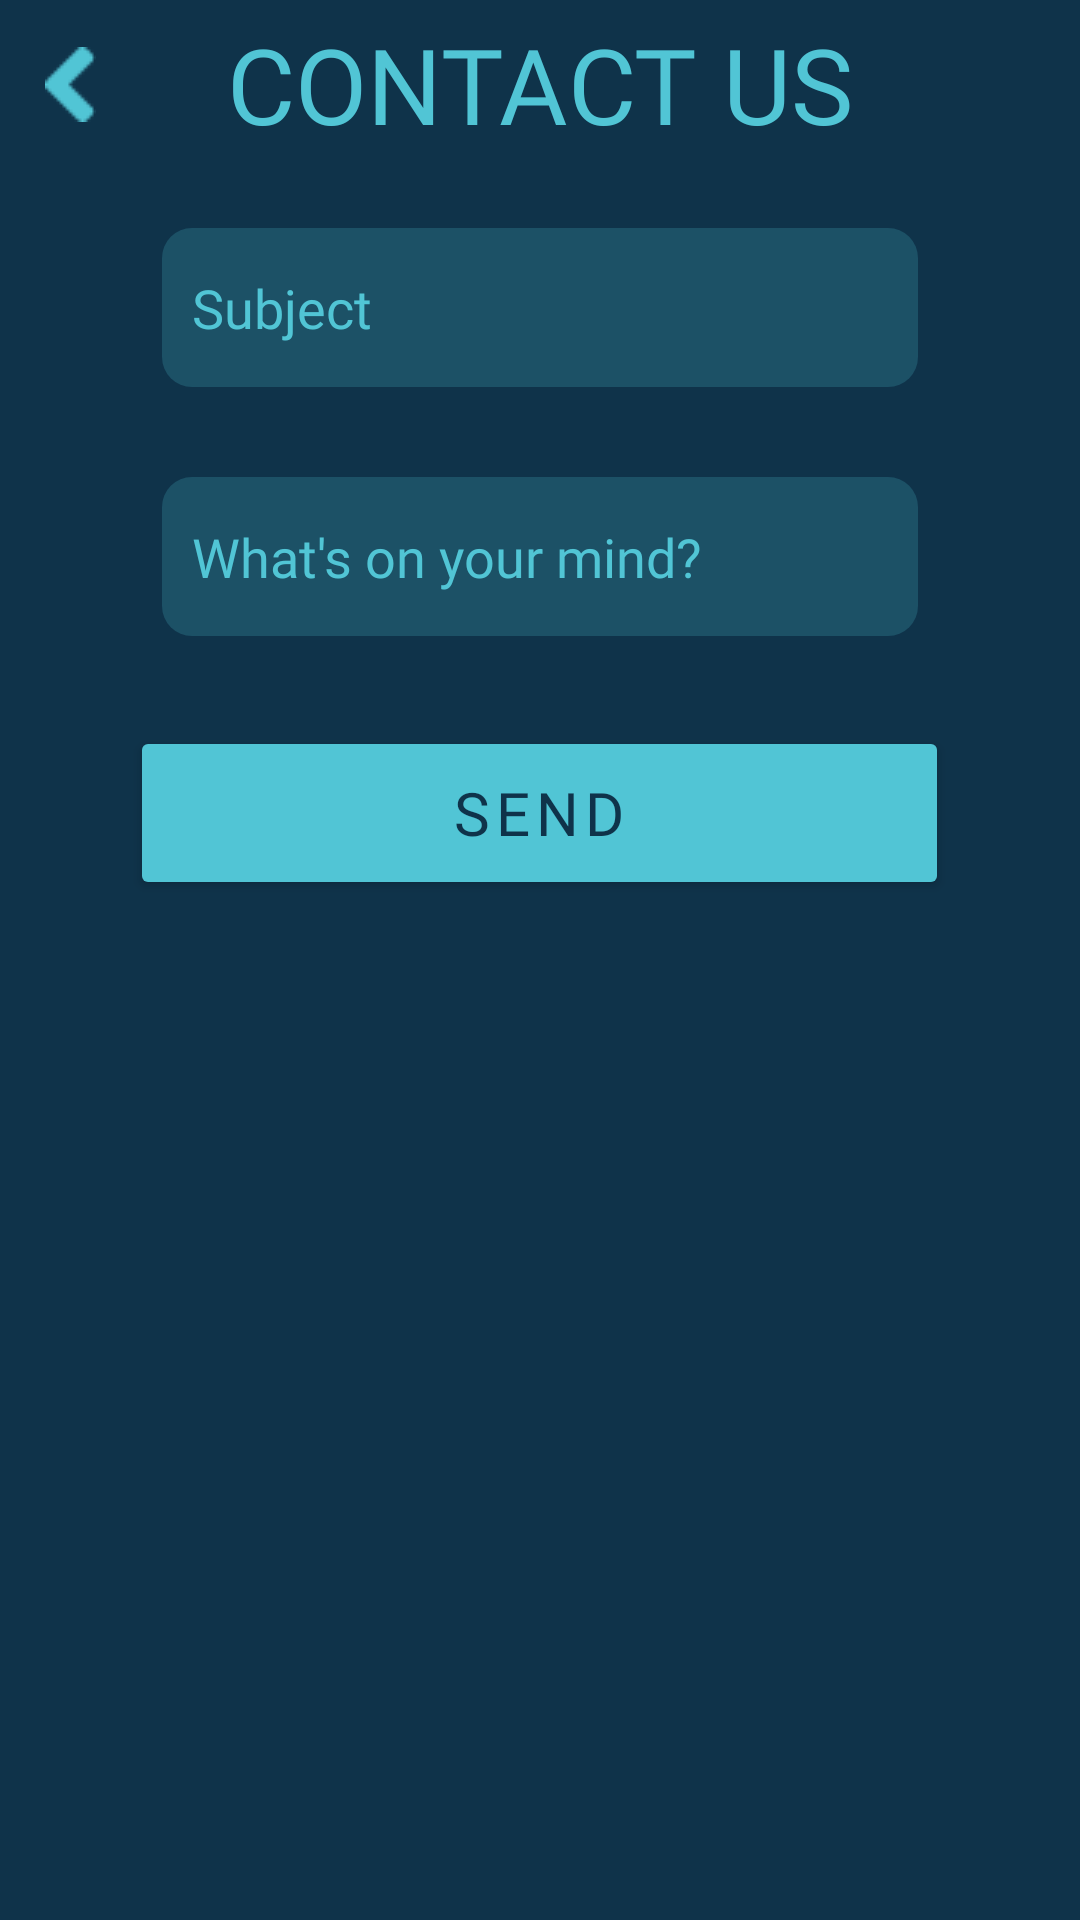

Screen size 1080px×1920px. Icon name, then its center in pixels as point (x, y):
back arrow: point (69, 84)
